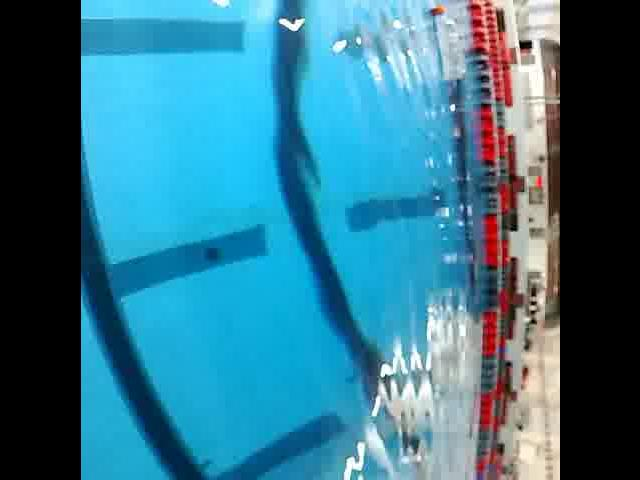Bottle: (424, 1, 470, 85)
